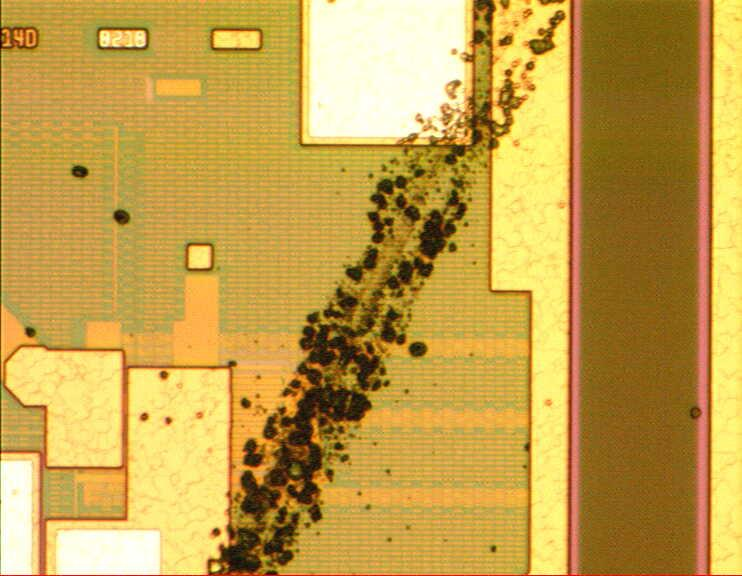PO CONTAMINATION: (21, 1, 707, 576)
